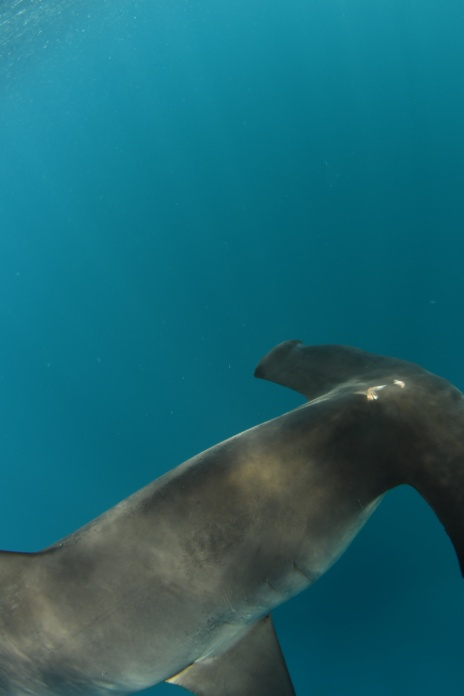Hammer: (12, 283, 464, 690)
